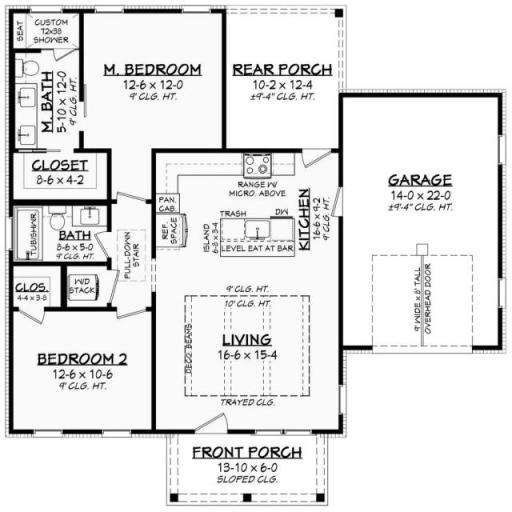bathroom: (17, 14, 89, 158), (20, 205, 118, 270)
bedroom: (80, 14, 229, 148), (26, 308, 154, 428)
closet: (16, 156, 107, 188)
garage: (346, 96, 512, 342)
hall: (161, 280, 339, 436)
kitchen: (153, 156, 341, 276)
porch: (243, 10, 350, 137), (171, 442, 316, 500)
